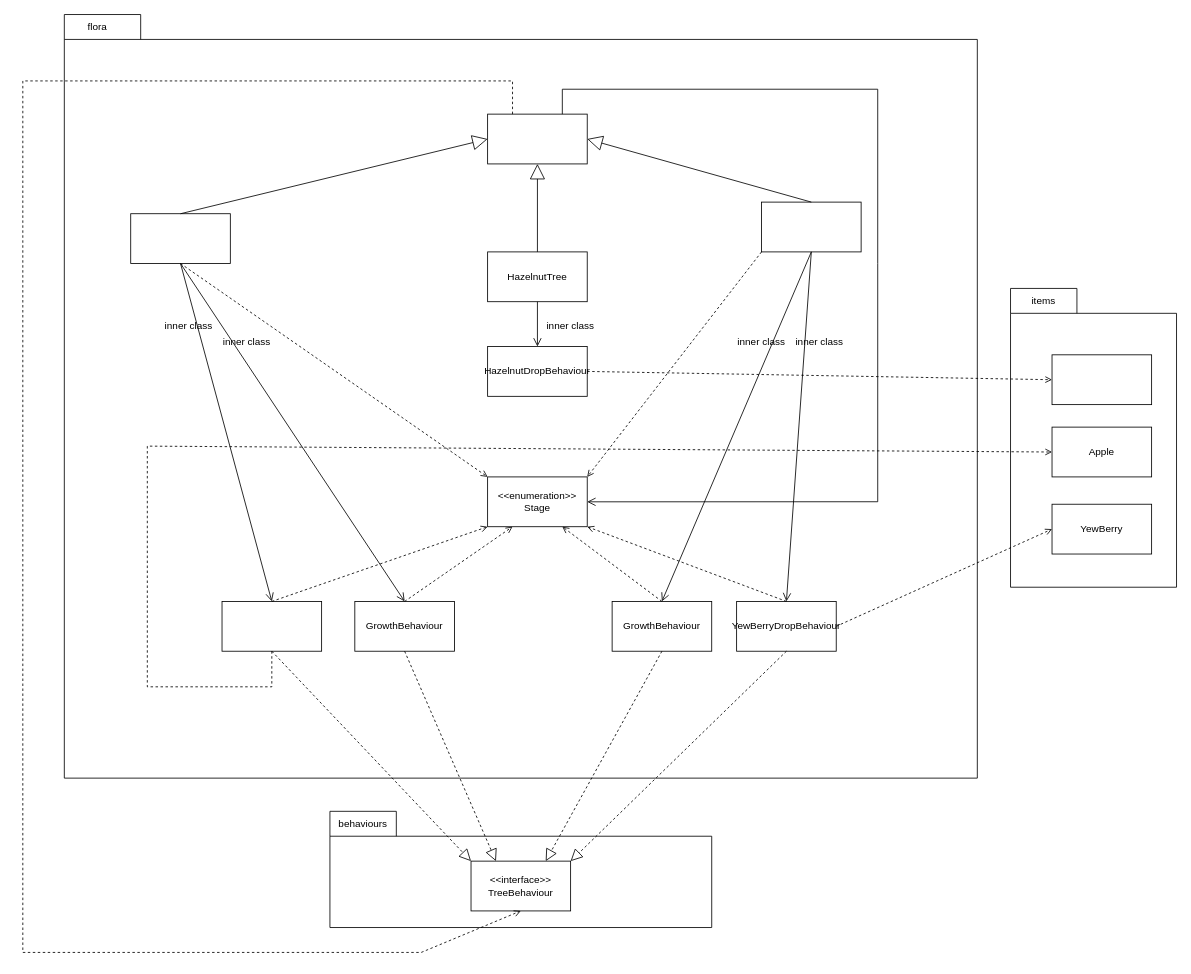
The diagram is 1191 pixels wide and 974 high, and some of its shapes have lost their labels. The shapes that lost their labels are listed below. From the top down, each one's centre as x and y in pixels, then its label:
At pixel 537 138: "Tree".
At pixel 180 238: "WildAppleTree".
At pixel 811 226: "YewBerryTree".
At pixel 1101 379: "Hazelnut".
At pixel 271 626: "AppleDropBehaviour".
